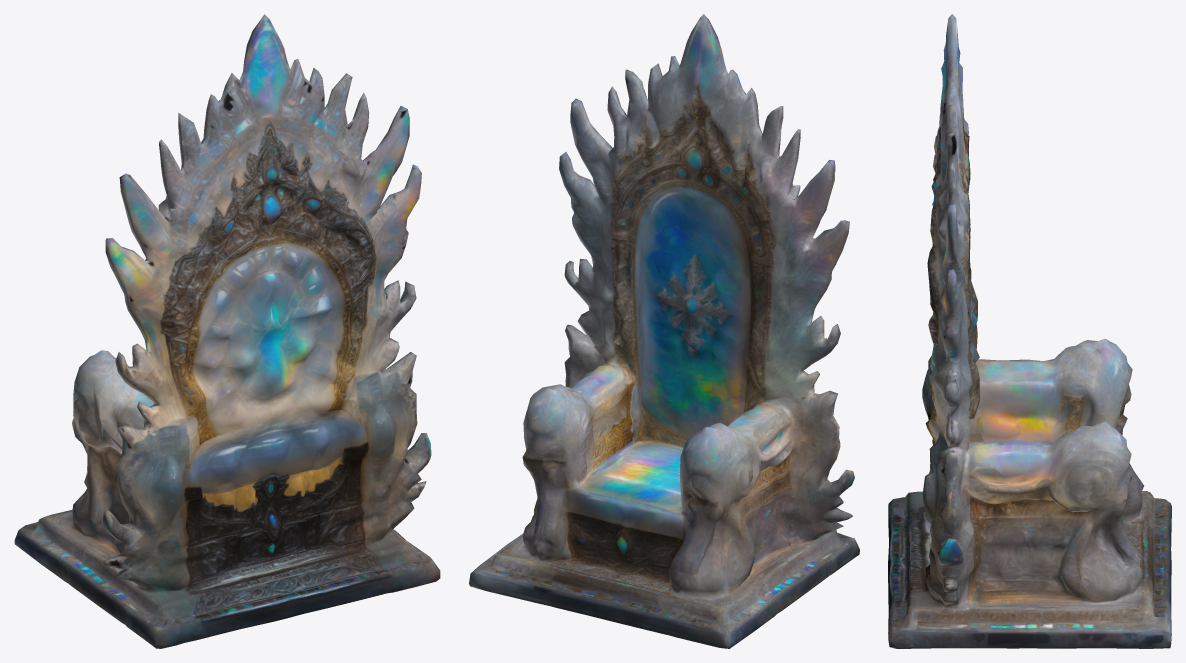
Rendered from A_Highly_Detailed_orn_0613152730_texture.fbx.
3 views of the same model, side by side, from view 1: azimuth 30°, elevation 25°; view 2: azimuth 150°, elevation 25°; view 3: azimuth 270°, elevation 25° (orthographic). The views are drawn at different scales.
Parts seen in each view (by area): view 1: Mesh1_Mesh1.046; view 2: Mesh1_Mesh1.046; view 3: Mesh1_Mesh1.046.
Boxes of the visible parts, x1,y1,x2,y2 form: Mesh1_Mesh1.046: (14,14,440,648); Mesh1_Mesh1.046: (469,14,859,648); Mesh1_Mesh1.046: (888,14,1171,648).
Bounding box in the file's own units: 118 × 201 × 90.96.
Materials: 1 (1 with a texture image).
